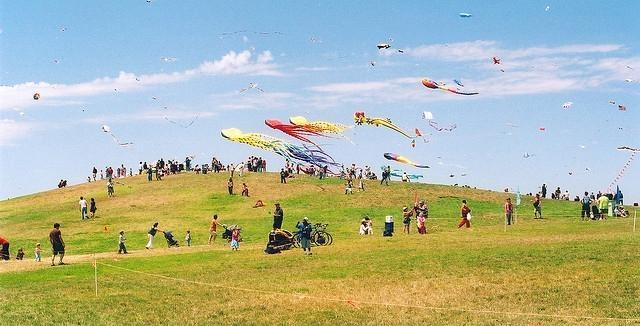bicycle: (312, 221, 329, 247), (320, 223, 334, 247)
